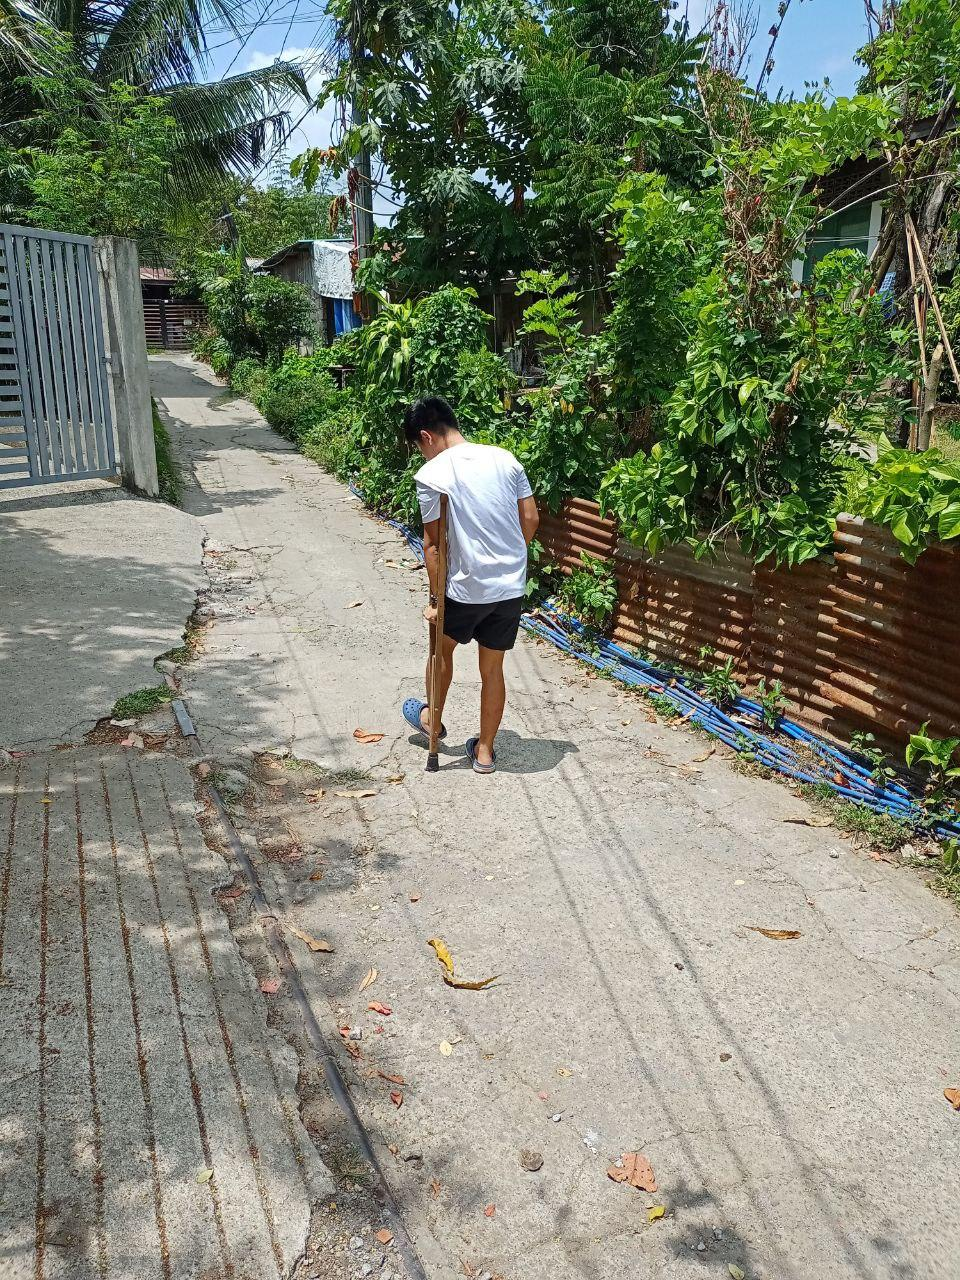crutches: (401, 397, 541, 774)
